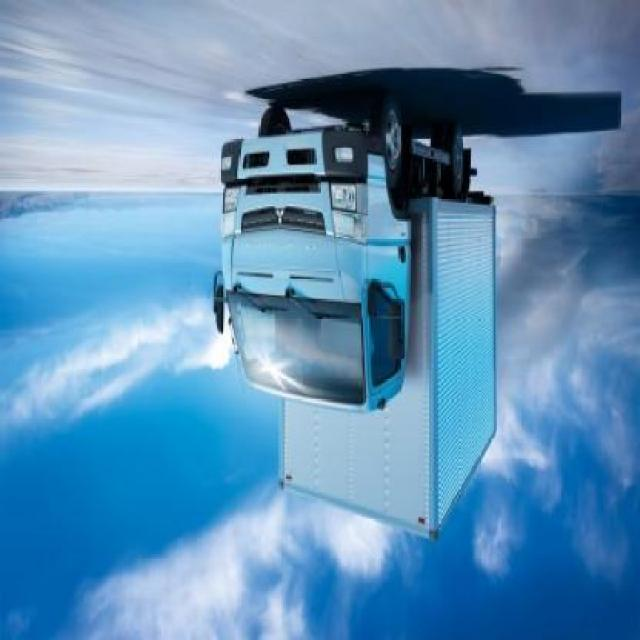truck: (214, 88, 500, 539)
